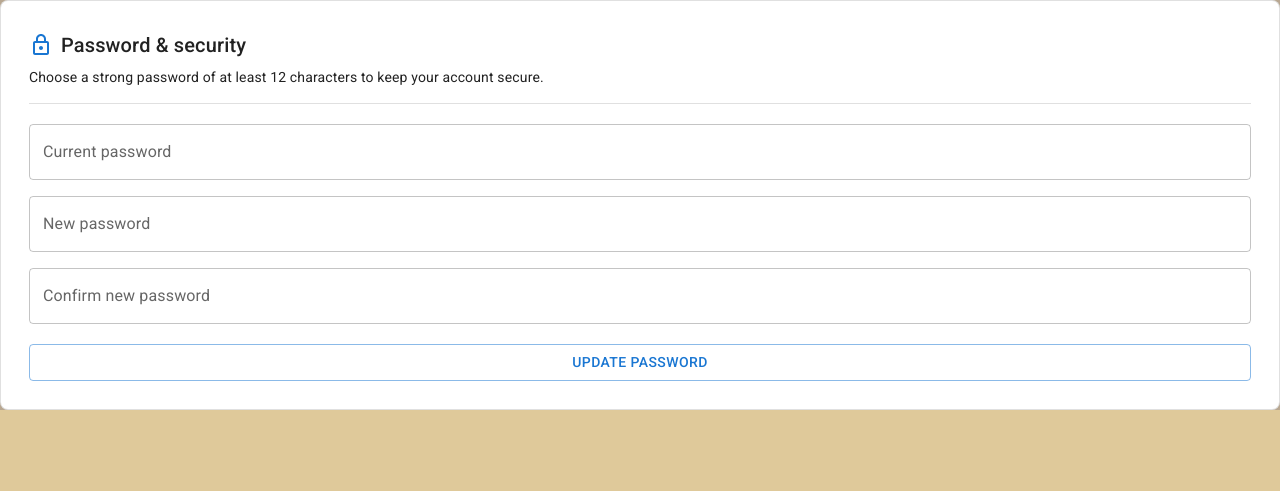
Test case: SecurityPasswordForm › retains values after a service error and permits retry
Type "current-password" into the password field labelled "Current password" at (640,152), box [29, 124, 1251, 180]
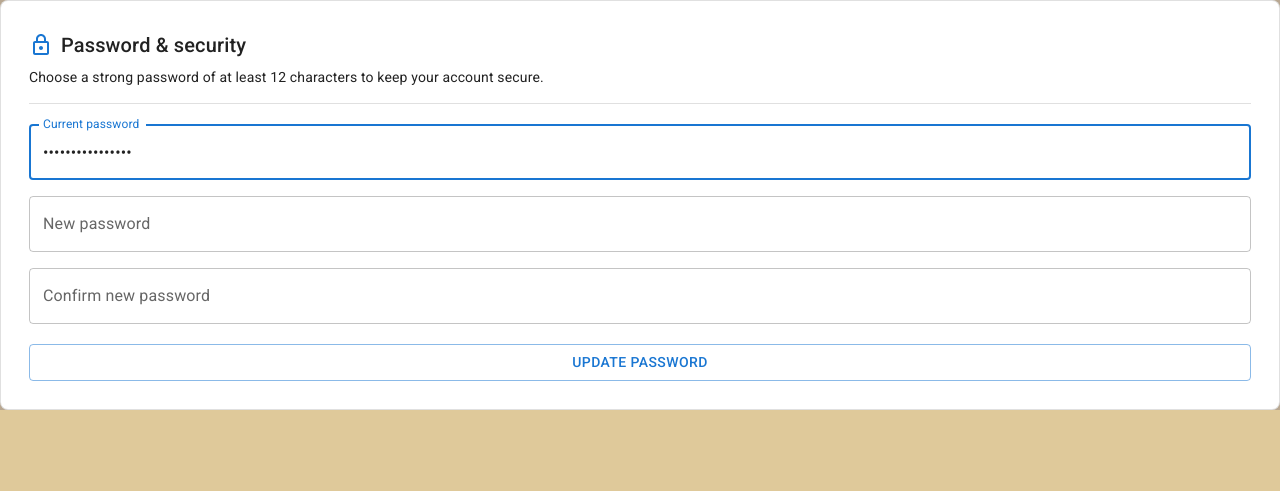
Type "new-password" into the password field labelled "New password" at (640,224), box [29, 196, 1251, 252]
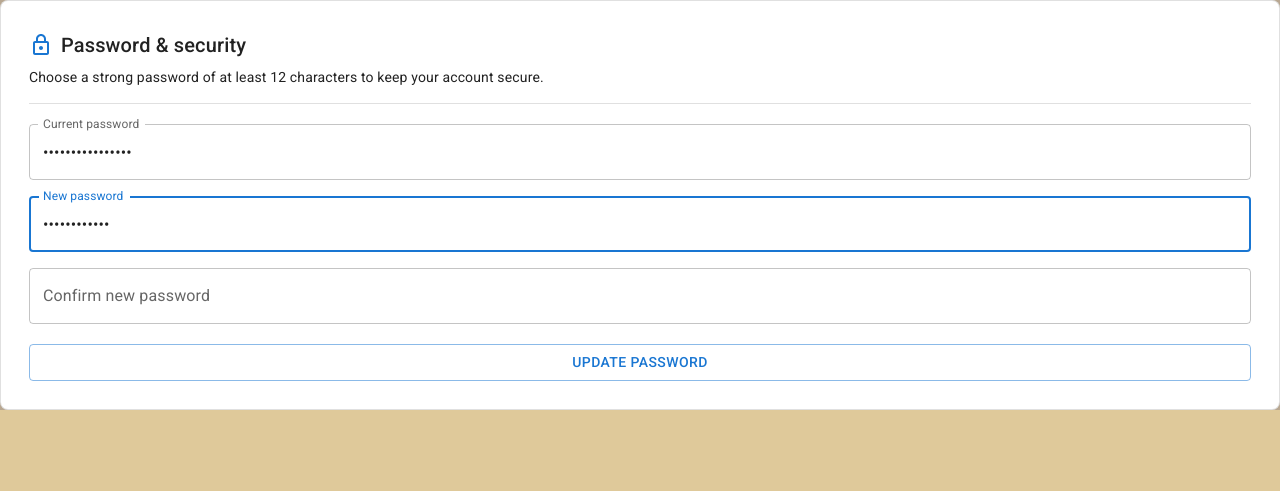
Type "new-password" into the password field labelled "Confirm new password" at (640,296), box [29, 268, 1251, 324]
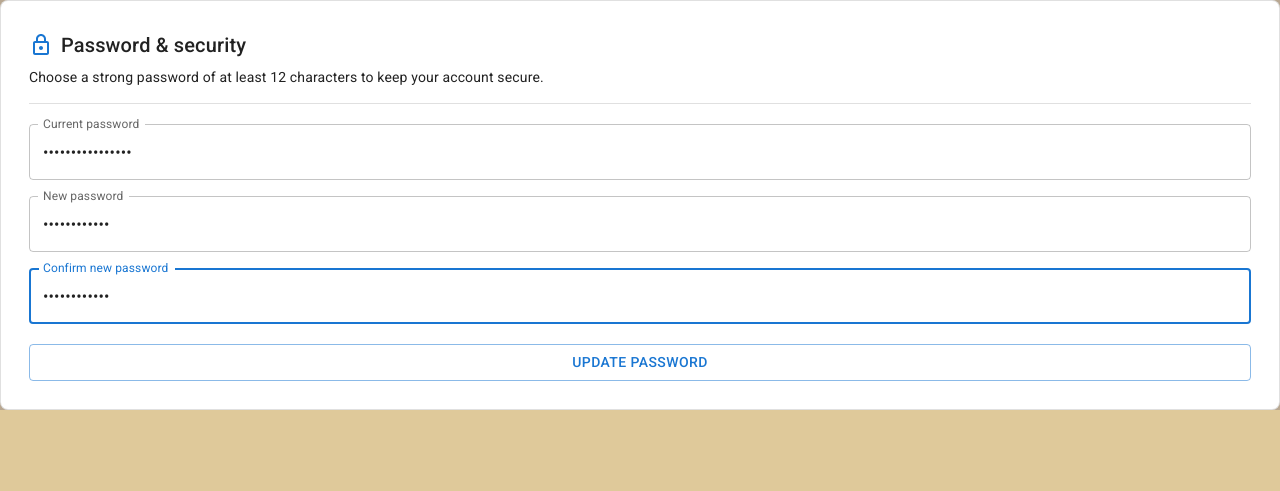
Click the button "Update password" at (640,362), box [29, 344, 1251, 380]
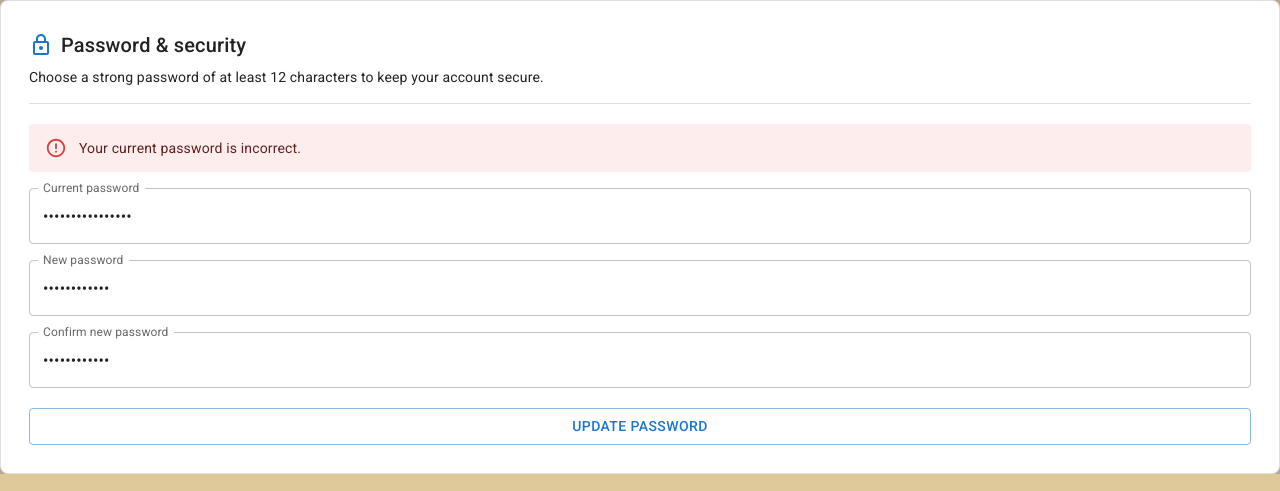
expect the message reads "Your current password is incorrect.": met, box [79, 140, 301, 156]
Click the button "Update password" at (640,426), box [29, 408, 1251, 444]
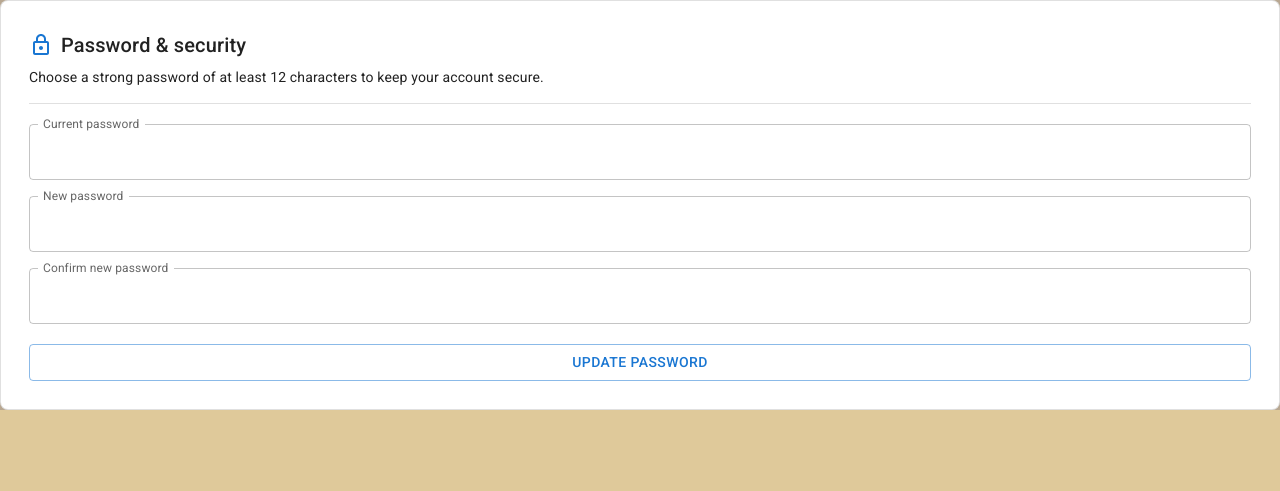
expect the password field labelled "New password" is empty: met, box [29, 196, 1251, 252]
expect the message "Your current password is incorrect." is gone: met
